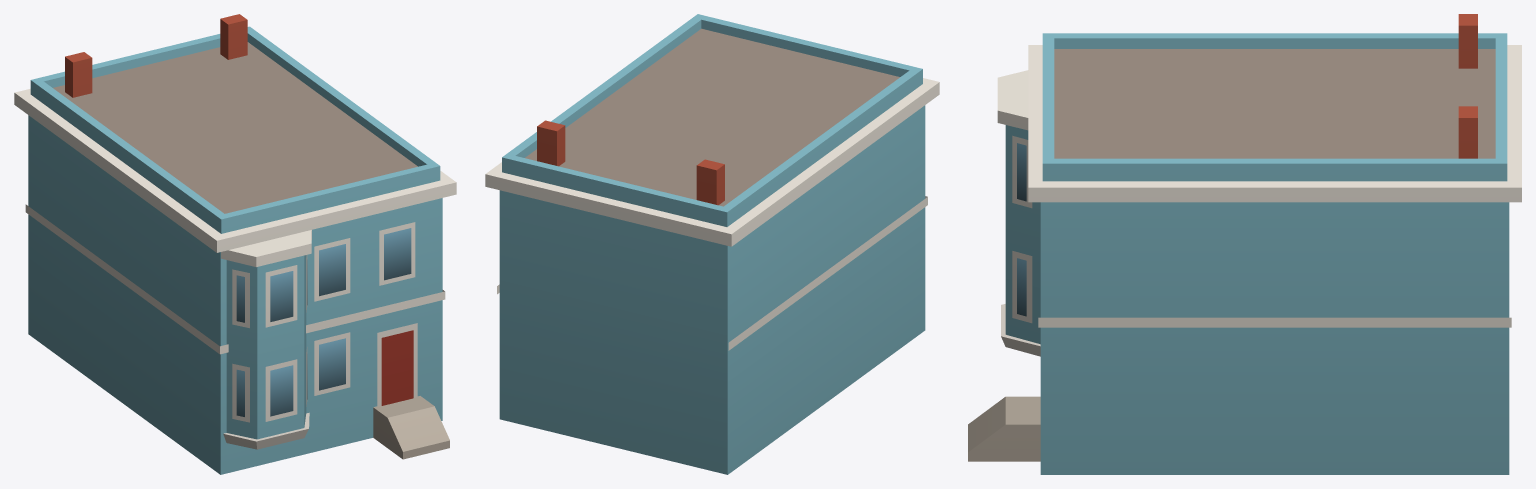
File: beacon_n7_far.glb
The picture shows the model from 3 angles, left to right: view 1: azimuth 30°, elevation 25°; view 2: azimuth 150°, elevation 25°; view 3: azimuth 270°, elevation 25°; orthographic projection. The views are drawn at different scales.
Visible parts, largest first — view 1: beacon_n7_far; view 2: beacon_n7_far; view 3: beacon_n7_far.
Part boxes in pixels (x1=…): beacon_n7_far: x1=14, y1=14, x2=456, y2=474; beacon_n7_far: x1=485, y1=14, x2=939, y2=474; beacon_n7_far: x1=968, y1=14, x2=1521, y2=474.
Size of the model in its own units: 8.64 by 9.69 by 14.18.
1 material, 1 textured.
